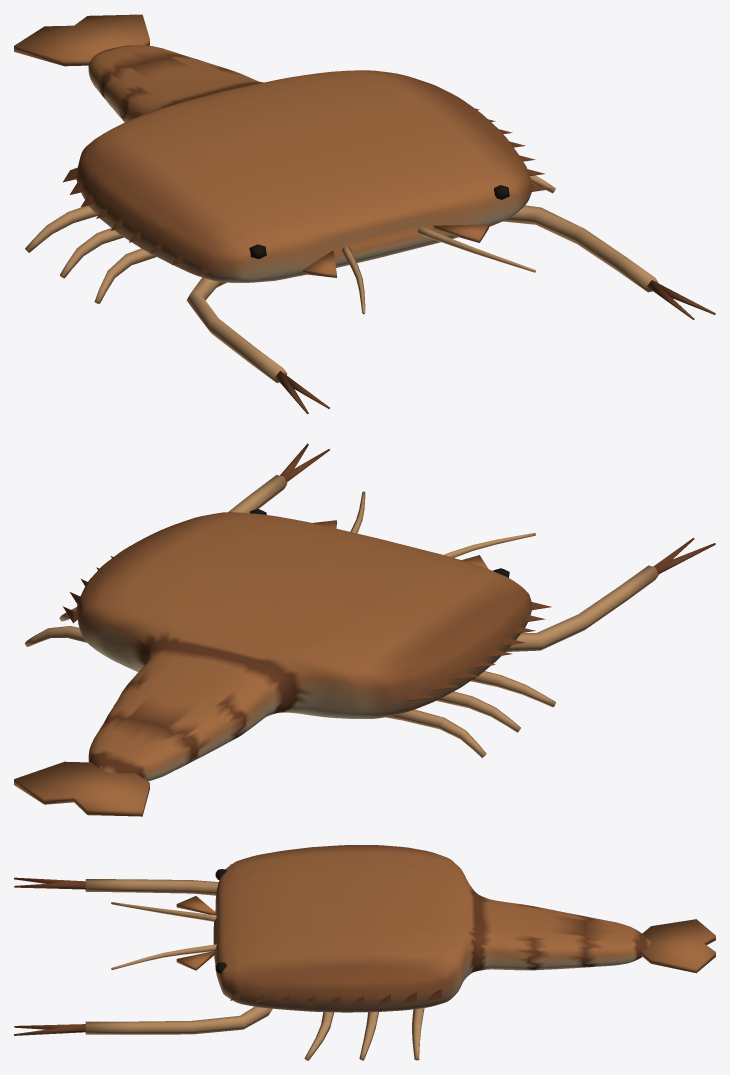
Rendered from Eryon.fbx.
The picture shows the model from 3 angles, top to bottom: view 1: azimuth 30°, elevation 25°; view 2: azimuth 150°, elevation 25°; view 3: azimuth 270°, elevation 25°; orthographic projection. The views are drawn at different scales.
Visible parts, largest first — view 1: Eryon; view 2: Eryon; view 3: Eryon.
Part boxes in pixels (x1,y1,x2,y2): Eryon: (14, 14, 715, 414); Eryon: (14, 443, 715, 816); Eryon: (14, 845, 715, 1060).
Bounding box in the file's own units: 0.6454 × 0.1263 × 1.08.
